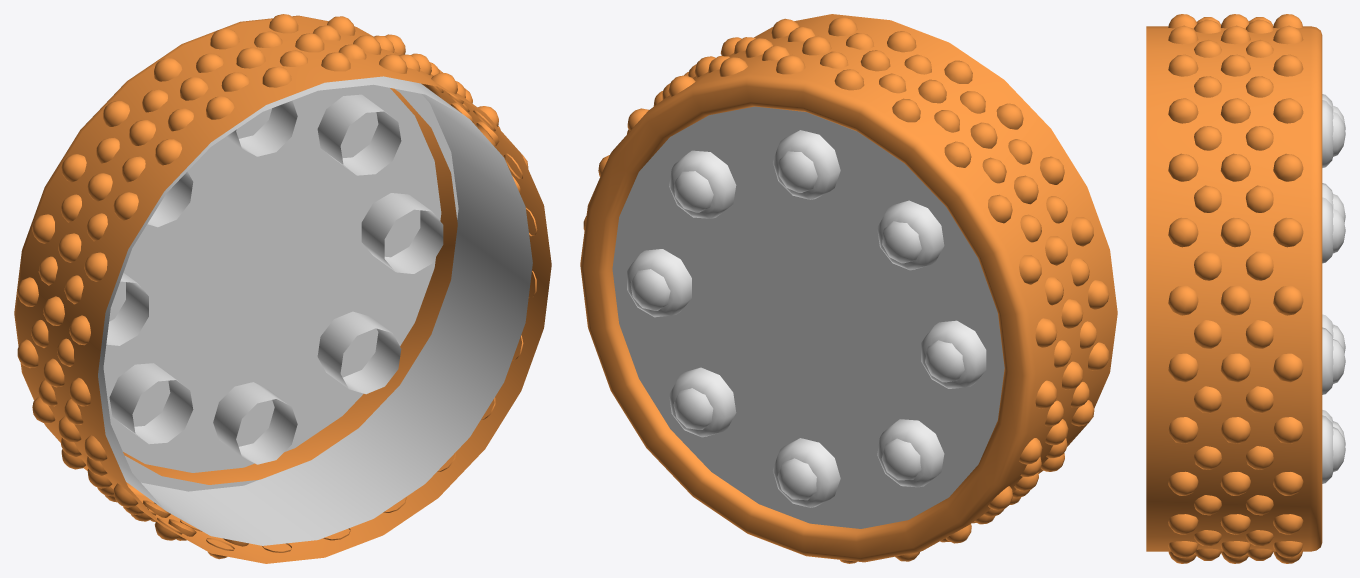
The model's file is RotatingPlatform_circle.fbx.
The picture shows the model from 3 angles, left to right: view 1: azimuth 30°, elevation 25°; view 2: azimuth 150°, elevation 25°; view 3: azimuth 270°, elevation 25°; orthographic projection.
Parts seen in each view (by area): view 1: metal_circle.002, platform.001; view 2: metal_circle.002, platform.001, Lights.001; view 3: platform.001, metal_circle.002, Lights.001.
Part boxes in pixels (bbox=[...]): metal_circle.002: bbox=[98, 76, 532, 545]; platform.001: bbox=[14, 14, 551, 563]; metal_circle.002: bbox=[612, 106, 1004, 528]; platform.001: bbox=[580, 14, 1117, 563]; Lights.001: bbox=[630, 151, 964, 500]; platform.001: bbox=[1146, 14, 1322, 563]; metal_circle.002: bbox=[1322, 94, 1333, 483]; Lights.001: bbox=[1332, 105, 1345, 471].
Bounding box in the file's own units: 191 × 191 × 69.82.
